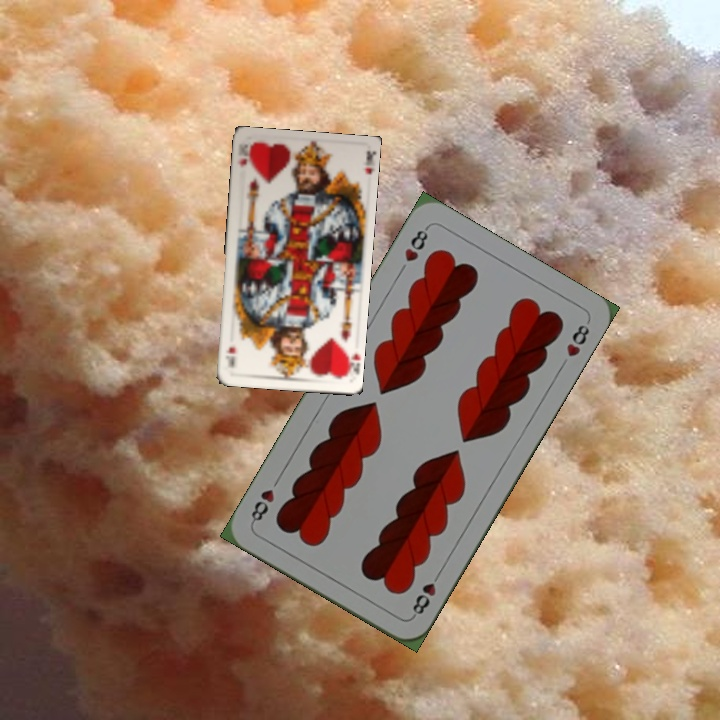H8: (408, 567, 444, 620), (400, 222, 431, 265)
HK: (339, 346, 360, 379), (234, 141, 250, 170)
